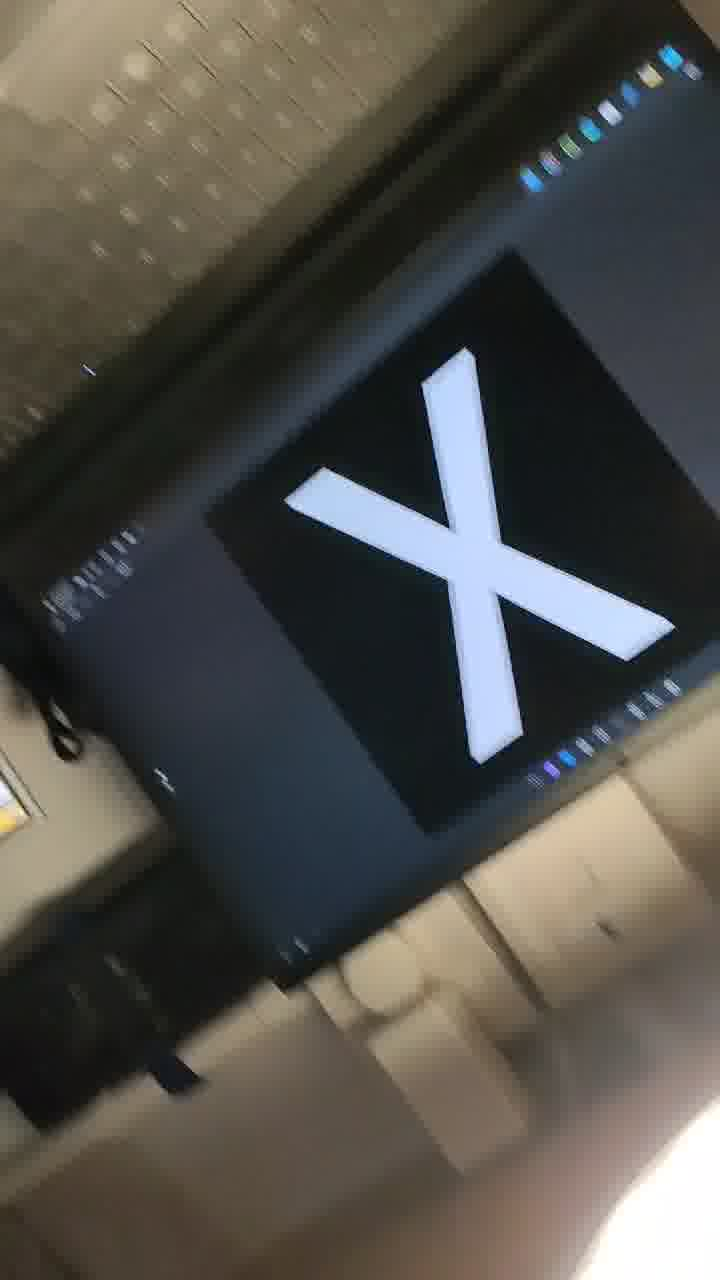X: (234, 305, 696, 770)
